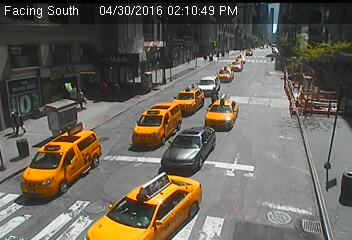neg: (257, 102, 290, 146), (312, 161, 341, 200), (156, 177, 181, 211), (33, 176, 56, 206), (207, 81, 221, 100)
pos: (73, 89, 91, 112), (112, 79, 126, 98), (96, 79, 110, 98)
